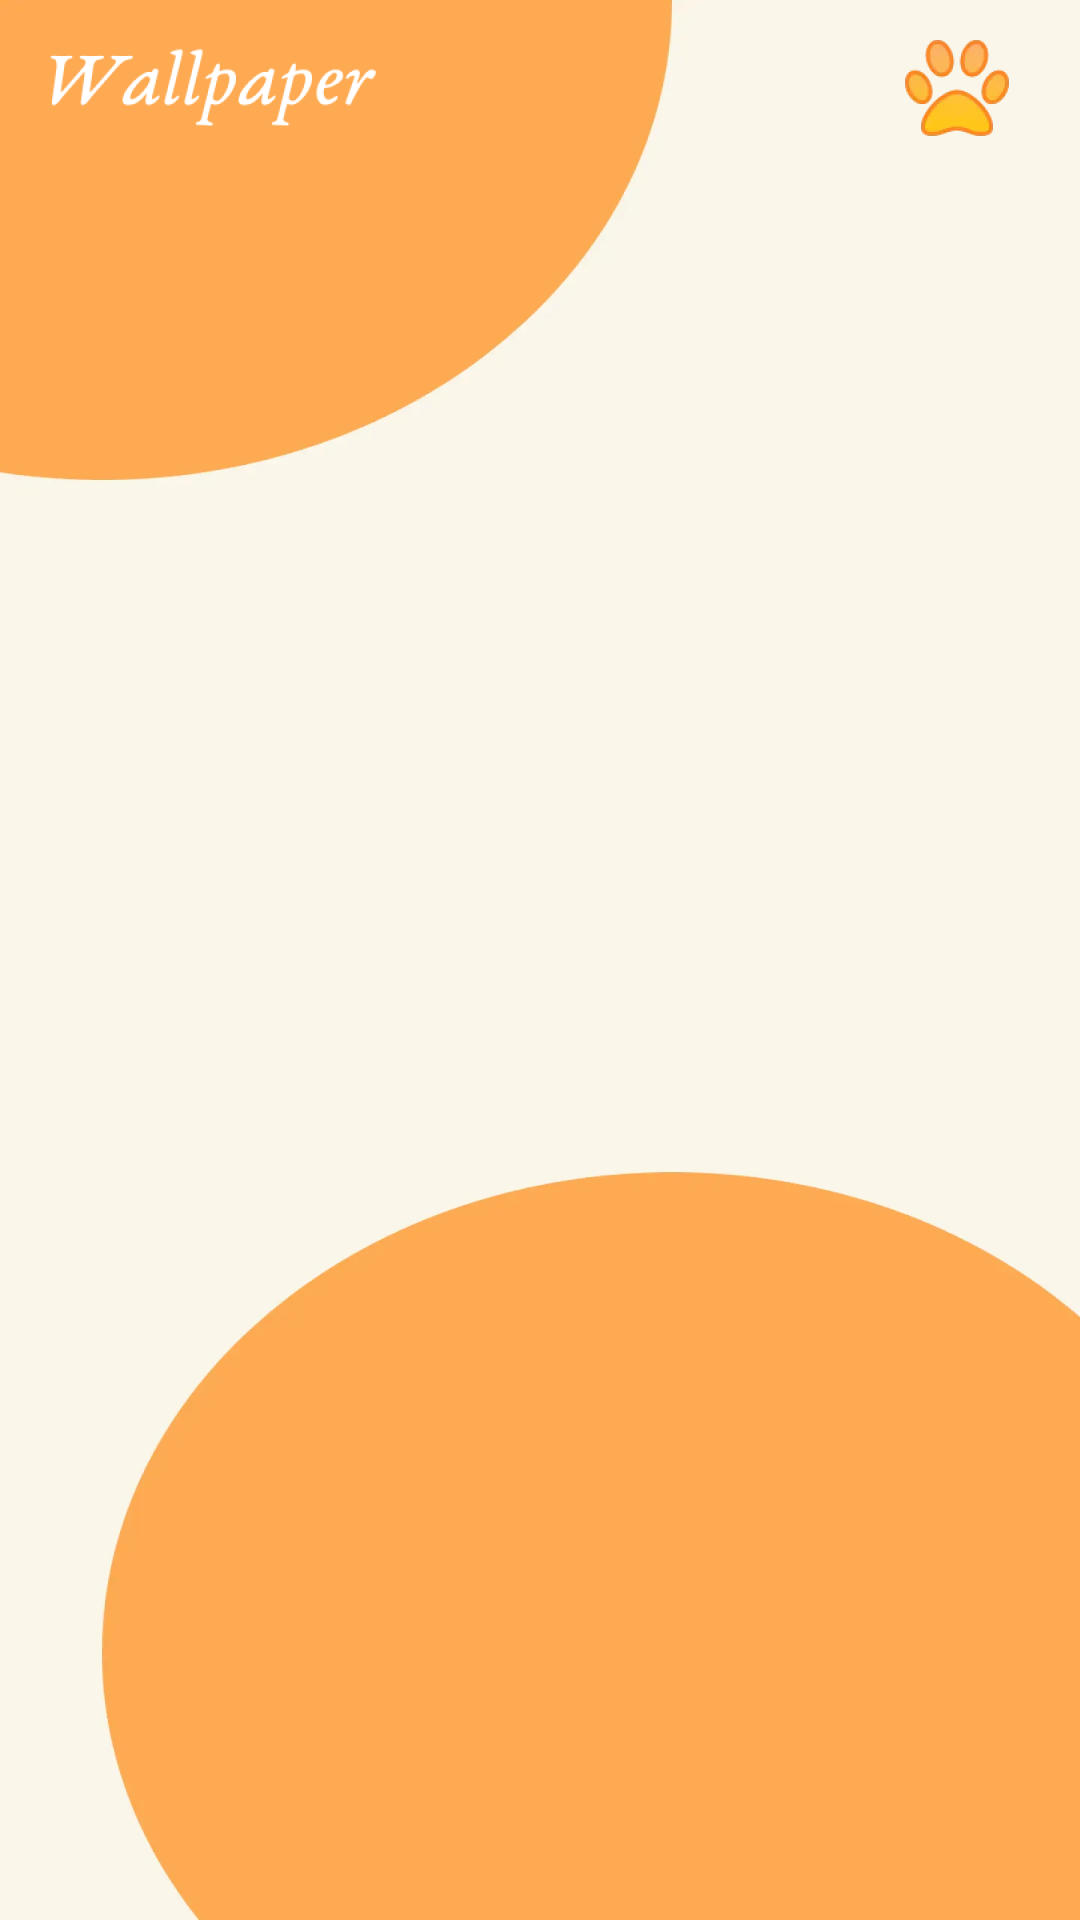

Where to tap for icons on this 1080×1920 app screen, as [x,y]:
paw: [957,88]
